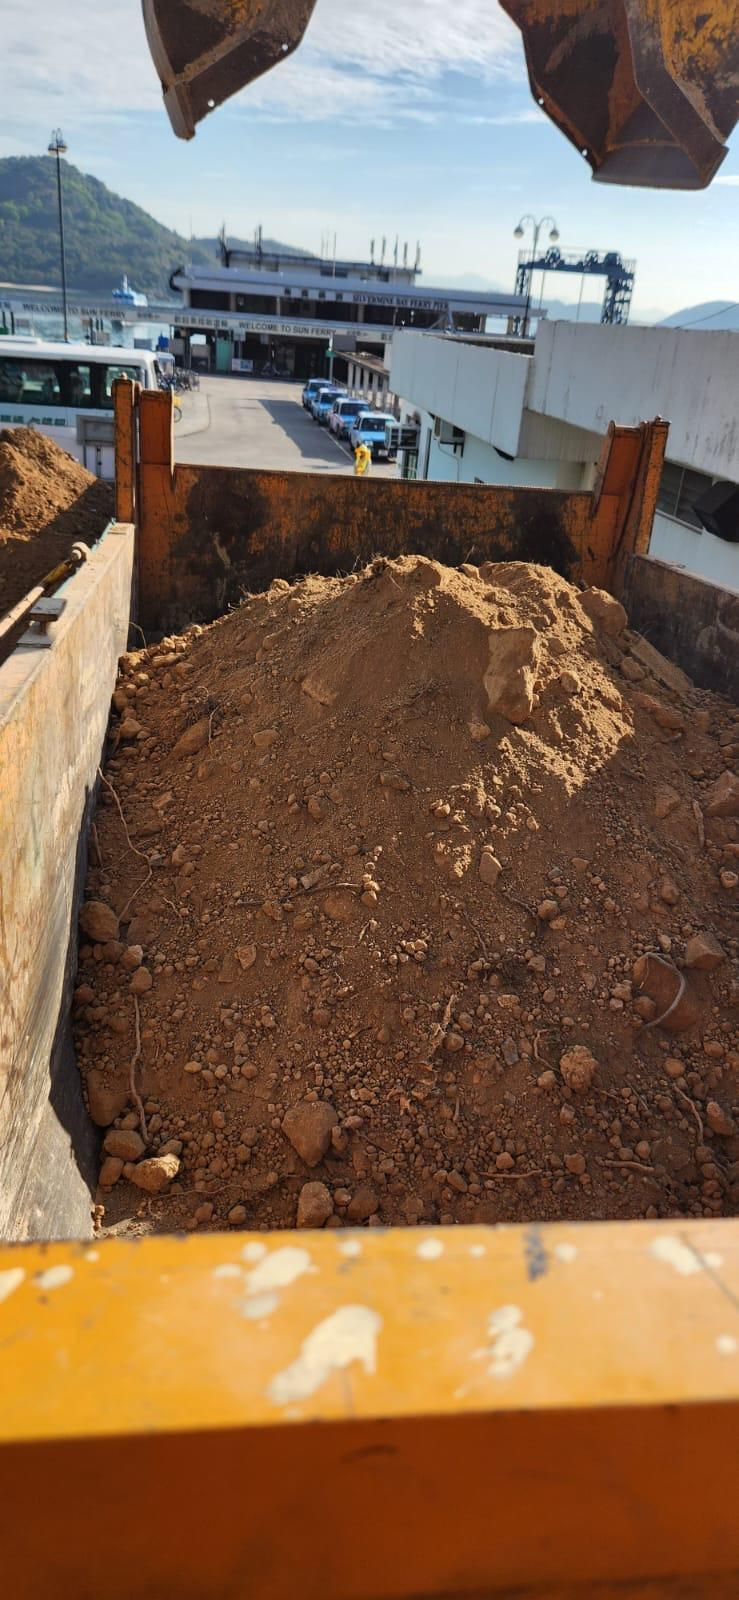dry: (57, 560, 739, 1233)
